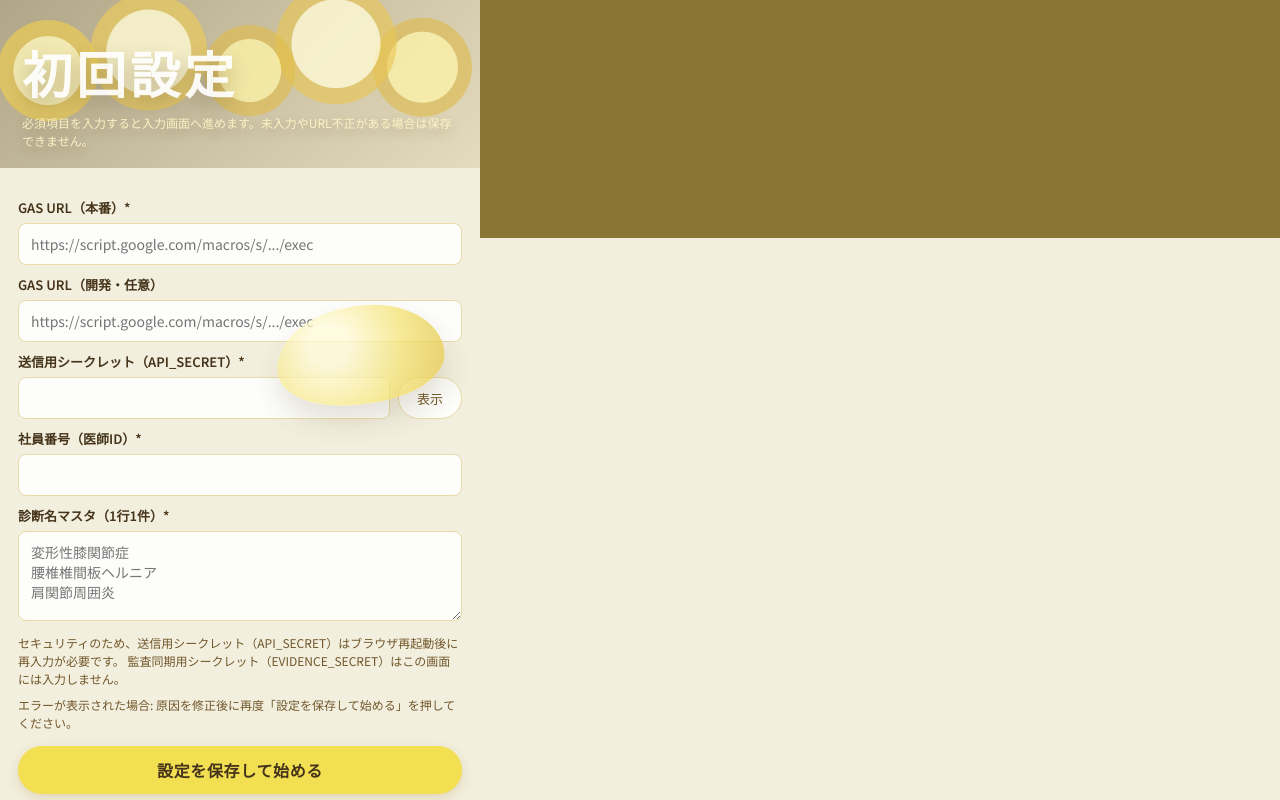
SetupScreen › 開発URLが許可ドメイン外の場合は保存しない
Type "https://script.google.com/macros/s/xxx/exec" into the field named "gasUrlProd".
click(240, 244); type("https://script.google.com/macros/s/xxx/exec")  # box [18,223,462,265]
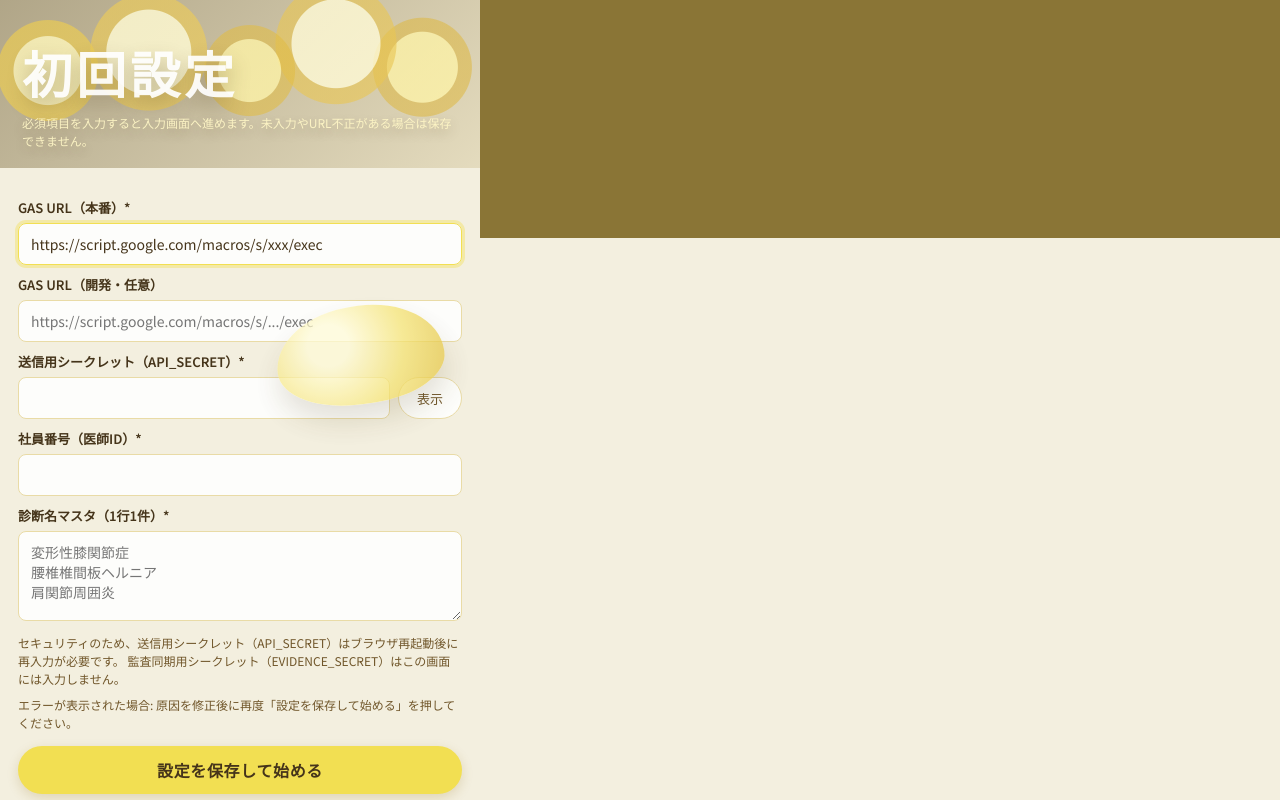
Type "https://example.com/dev" into the field named "gasUrlDev".
click(240, 321); type("https://example.com/dev")  # box [18,300,462,342]
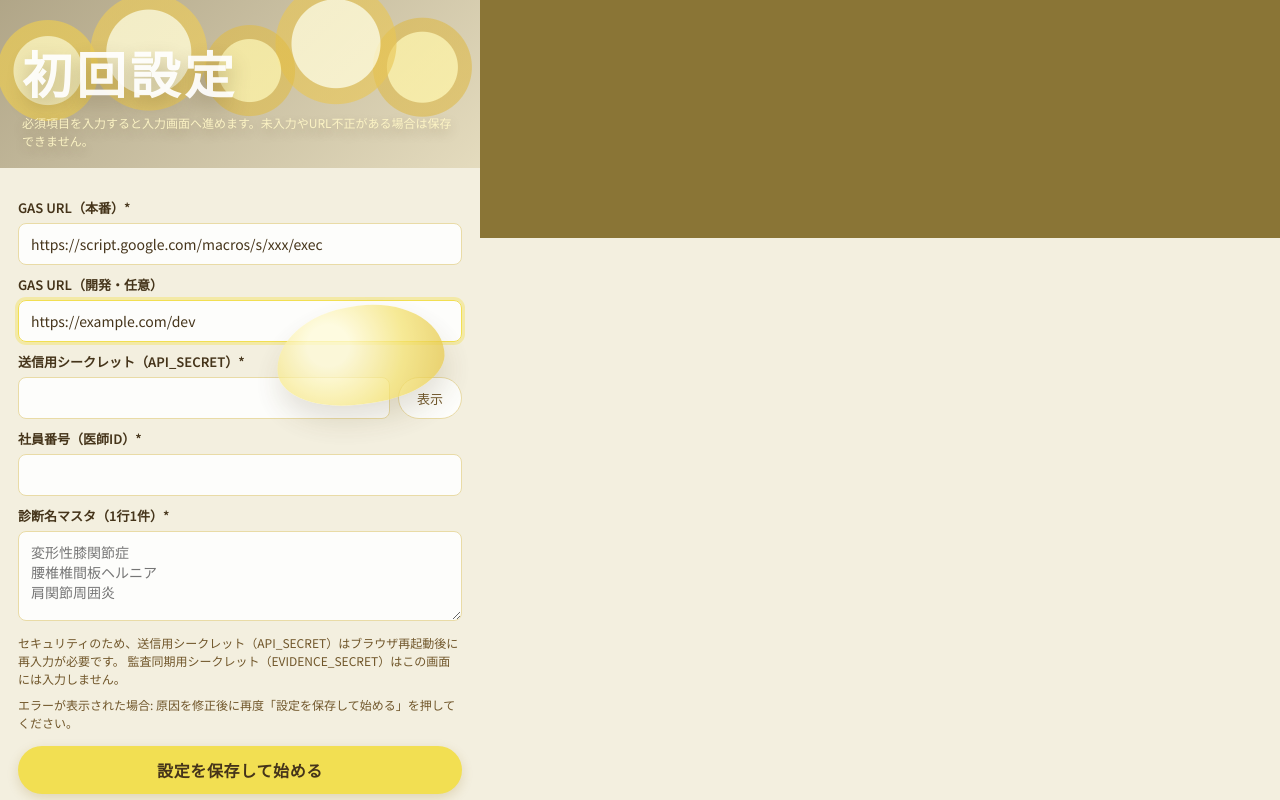
Type "12345" into the field named "doctorId".
click(240, 475); type("12345")  # box [18,454,462,496]
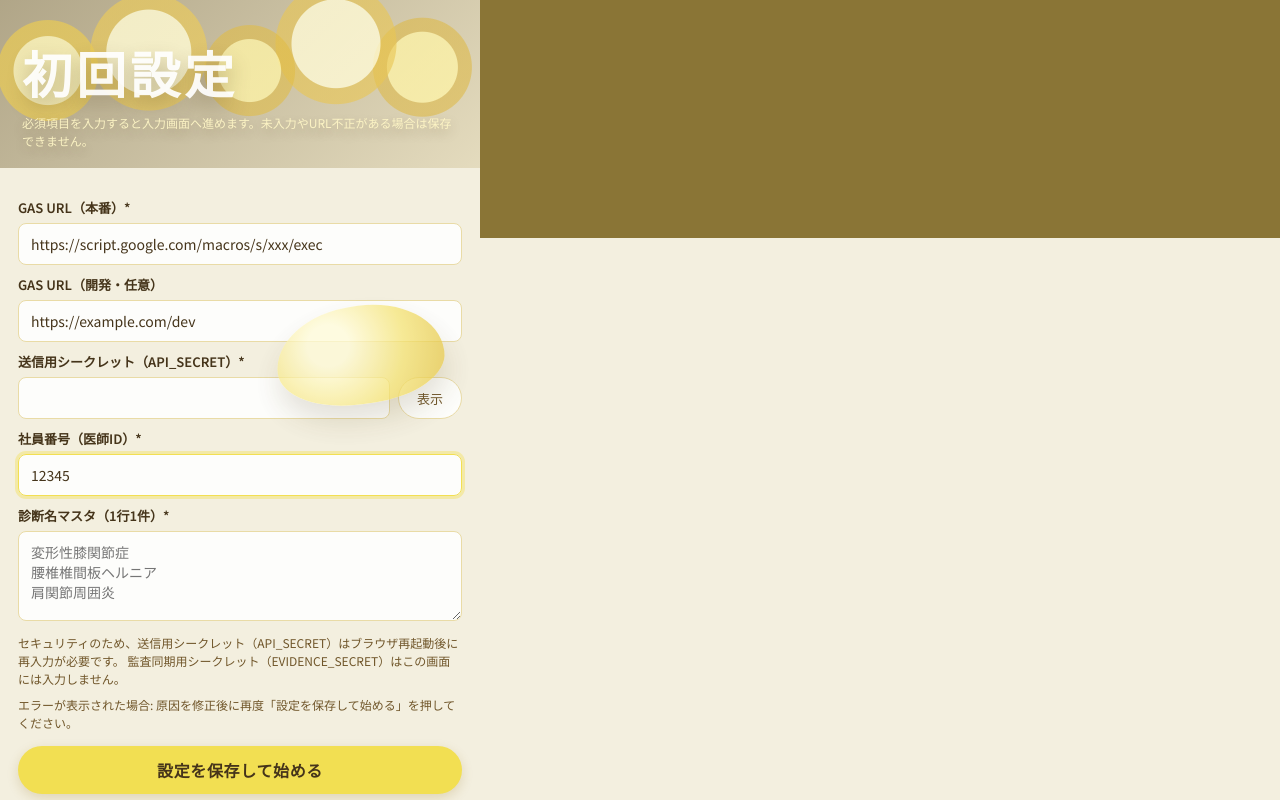
Type "secret" into the password field named "apiSecret".
click(204, 398); type("secret")  # box [18,377,390,419]
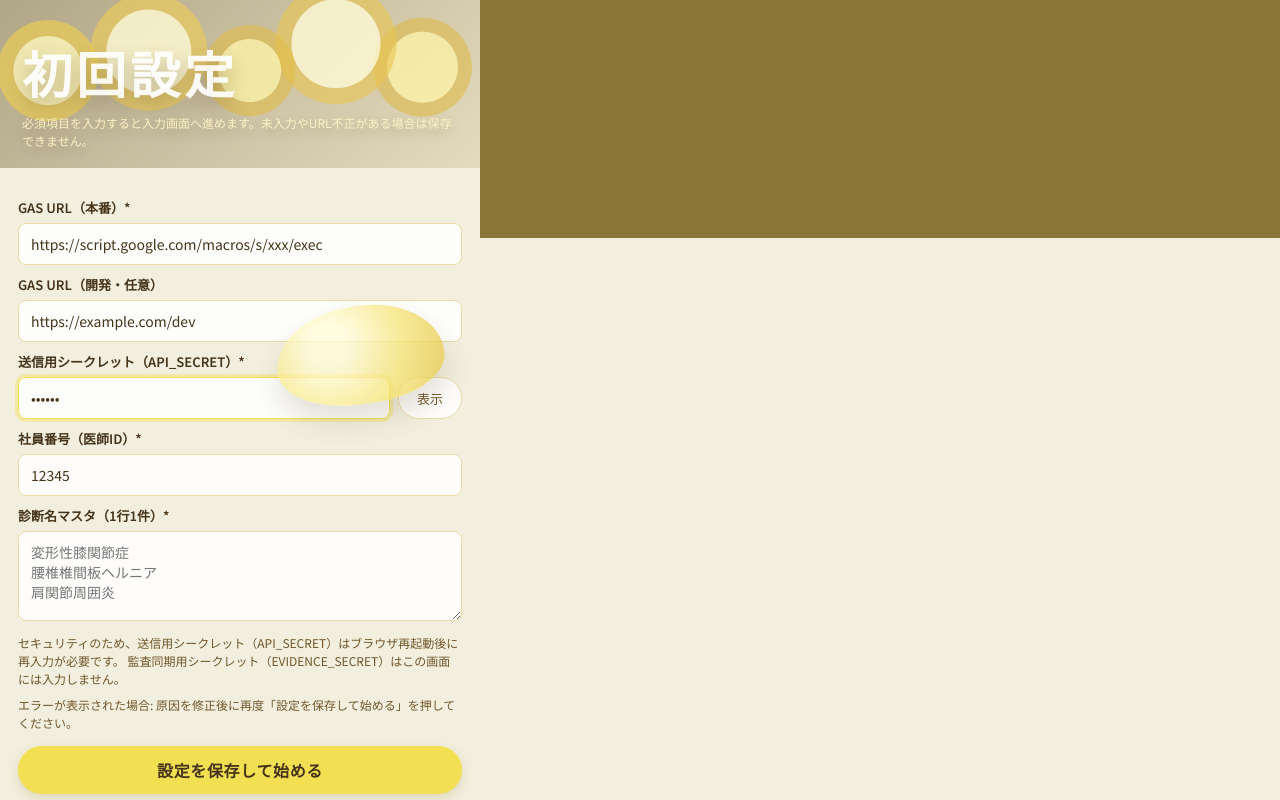
Type "腰痛" into the text box named "diagnosisMaster".
click(240, 576); type("腰痛")  # box [18,531,462,621]
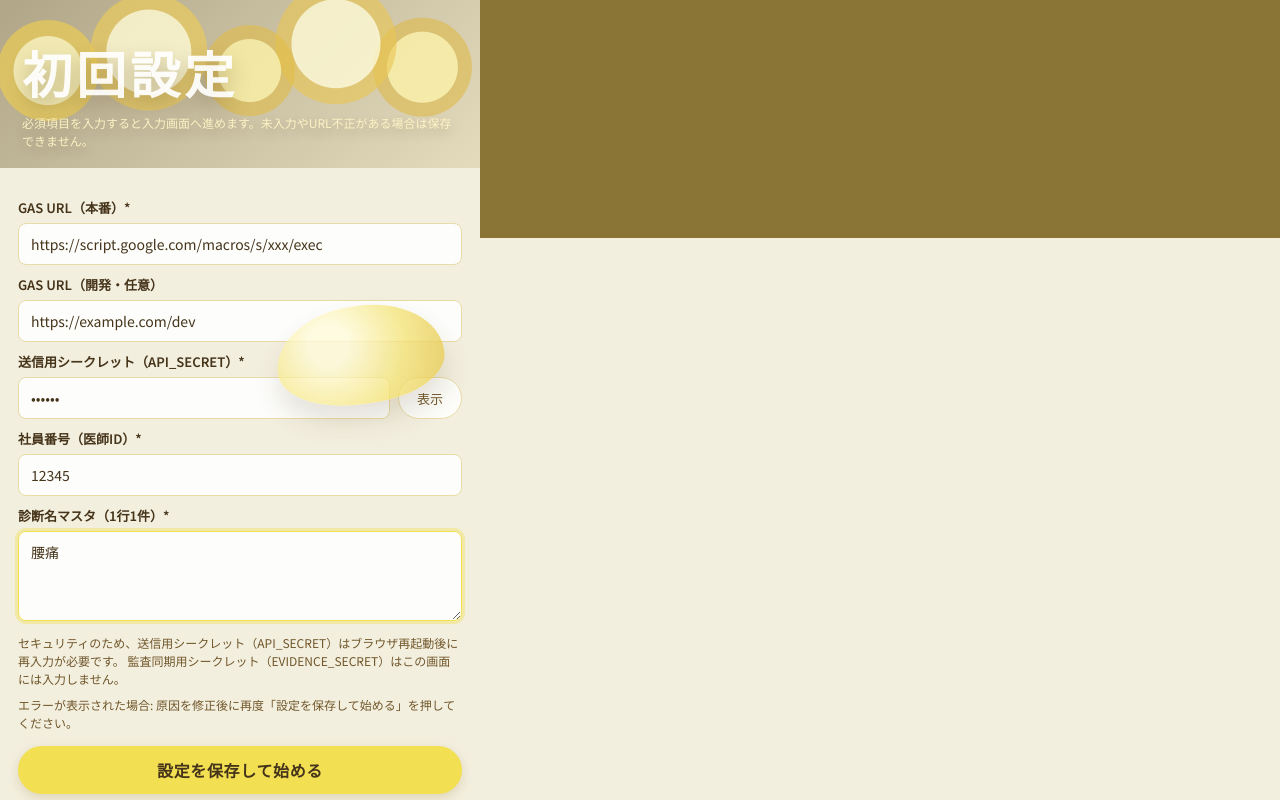
Click the button "設定を保存して始める".
click(240, 770)  # box [18,746,462,794]
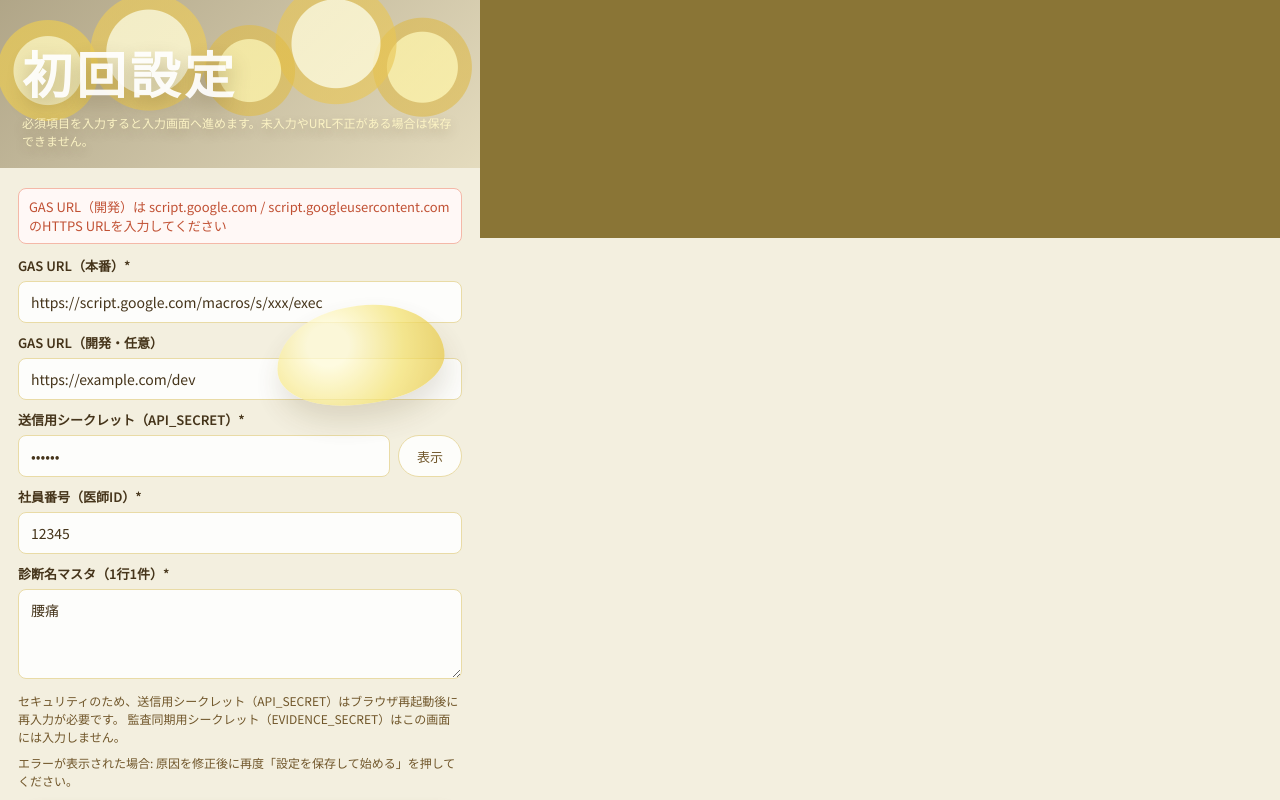
expect the text "GAS URL（開発）は script.google.com / script.googleusercontent.com のHTTPS URLを入力してください" is shown: met, box [29,197,450,235]
